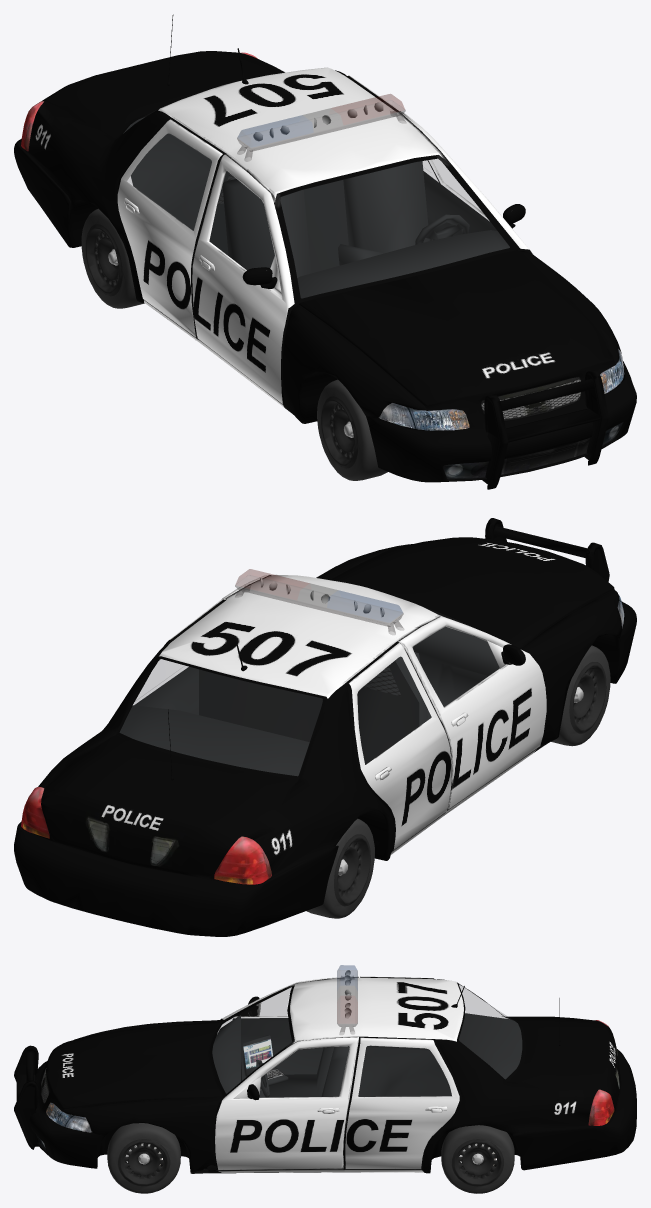
The model's file is copcar.glb.
3 renders of one model, top to bottom at view 1: azimuth 30°, elevation 25°; view 2: azimuth 150°, elevation 25°; view 3: azimuth 270°, elevation 25°, orthographic. The views are drawn at different scales.
Parts seen in each view (by area): view 1: CrownVic.Body, windows glass, interior, CrownVic.Wheel.Ft.R, Roof light bar, CrownVic.Wheel.Bk.R; view 2: CrownVic.Body, windows glass, interior, Roof light bar, CrownVic.Wheel.Bk.R, CrownVic.Wheel.Ft.R; view 3: CrownVic.Body, windows glass, interior, CrownVic.Wheel.Ft.L, CrownVic.Wheel.Bk.L, Roof light bar.
Part boxes in pixels (box(x1,y1,x2,y2)): CrownVic.Body: box(14, 14, 636, 489); windows glass: box(125, 111, 509, 297); interior: box(123, 117, 509, 298); CrownVic.Wheel.Ft.R: box(317, 379, 387, 480); Roof light bar: box(237, 94, 406, 161); CrownVic.Wheel.Bk.R: box(81, 208, 144, 308); CrownVic.Body: box(14, 518, 636, 936); windows glass: box(120, 608, 499, 775); interior: box(119, 626, 499, 776); Roof light bar: box(235, 569, 403, 634); CrownVic.Wheel.Bk.R: box(306, 818, 374, 918); CrownVic.Wheel.Ft.R: box(551, 645, 610, 746); CrownVic.Body: box(14, 976, 636, 1173); windows glass: box(212, 985, 521, 1097); interior: box(212, 1013, 522, 1097); CrownVic.Wheel.Ft.L: box(107, 1123, 180, 1193); CrownVic.Wheel.Bk.L: box(441, 1125, 514, 1193); Roof light bar: box(337, 965, 357, 1034).
Size of the model in its own units: 2.48 by 1.98 by 6.7.
Materials: 7 (5 with a texture image).
